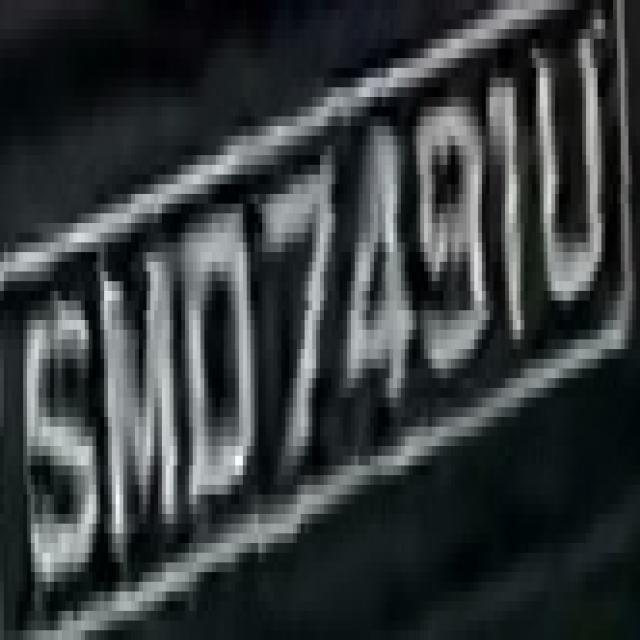1: (486, 19, 528, 349)
4: (312, 107, 420, 446)
7: (255, 165, 343, 494)
9: (404, 77, 490, 388)
D: (170, 204, 254, 524)
M: (92, 223, 178, 592)
S: (16, 272, 104, 592)
U: (528, 29, 613, 330)
